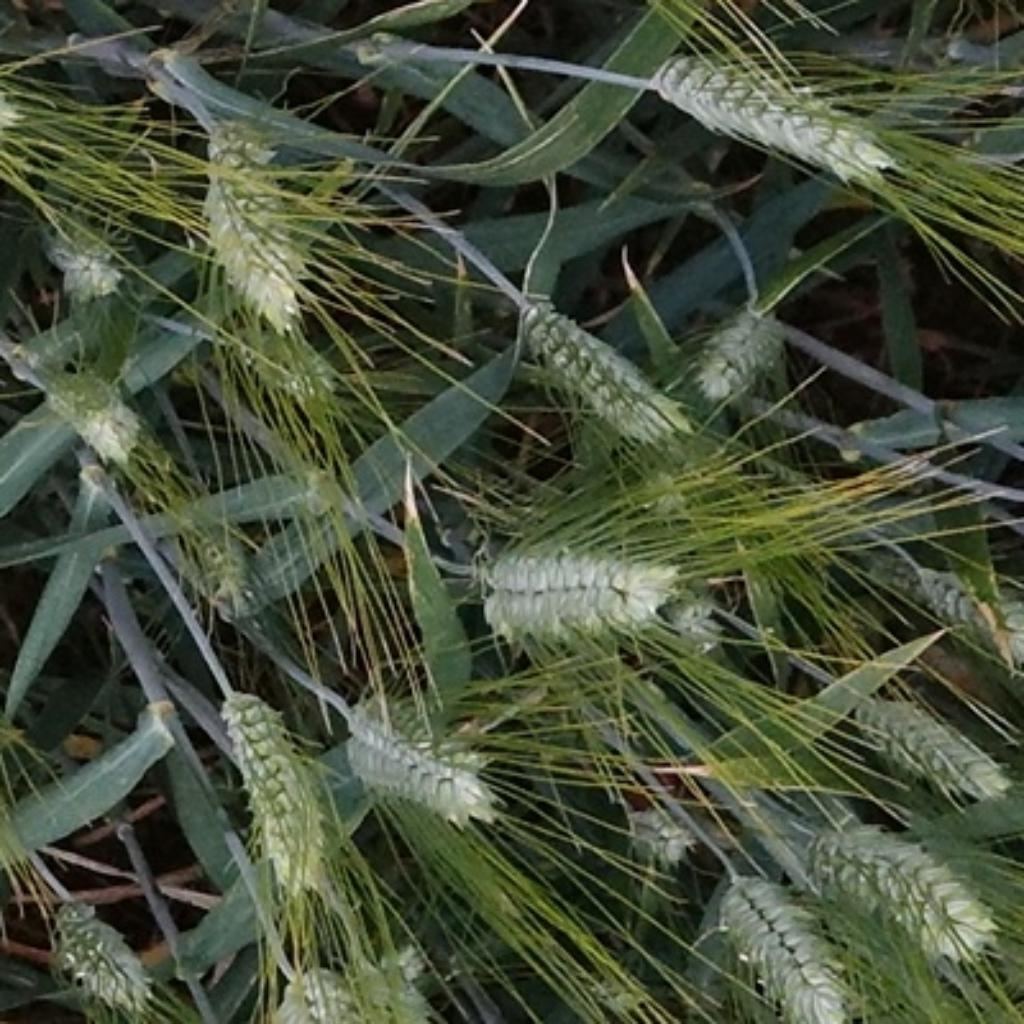0-0: (793, 808, 1006, 985), (652, 43, 908, 189), (512, 281, 683, 468), (186, 125, 322, 325), (464, 540, 681, 665), (212, 675, 337, 888), (838, 686, 1023, 822), (714, 860, 861, 1024), (330, 687, 496, 830), (42, 891, 168, 1021), (33, 355, 158, 478), (212, 302, 340, 409), (680, 306, 791, 416), (168, 509, 263, 619), (899, 555, 1012, 646), (259, 940, 378, 1024), (38, 208, 131, 310), (656, 579, 745, 676), (616, 793, 704, 872), (621, 456, 705, 533), (573, 952, 662, 1019)
